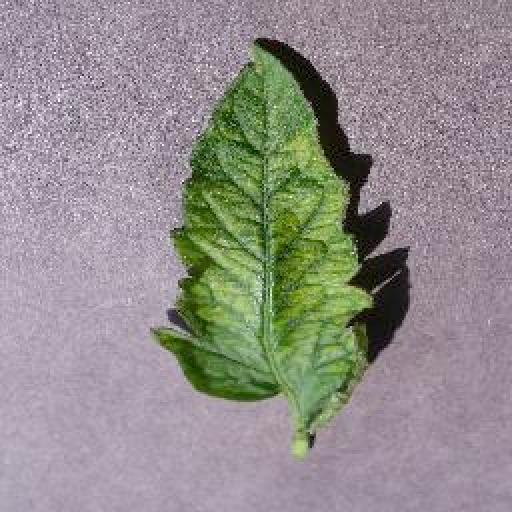disease_tomato: (140, 36, 374, 430)
